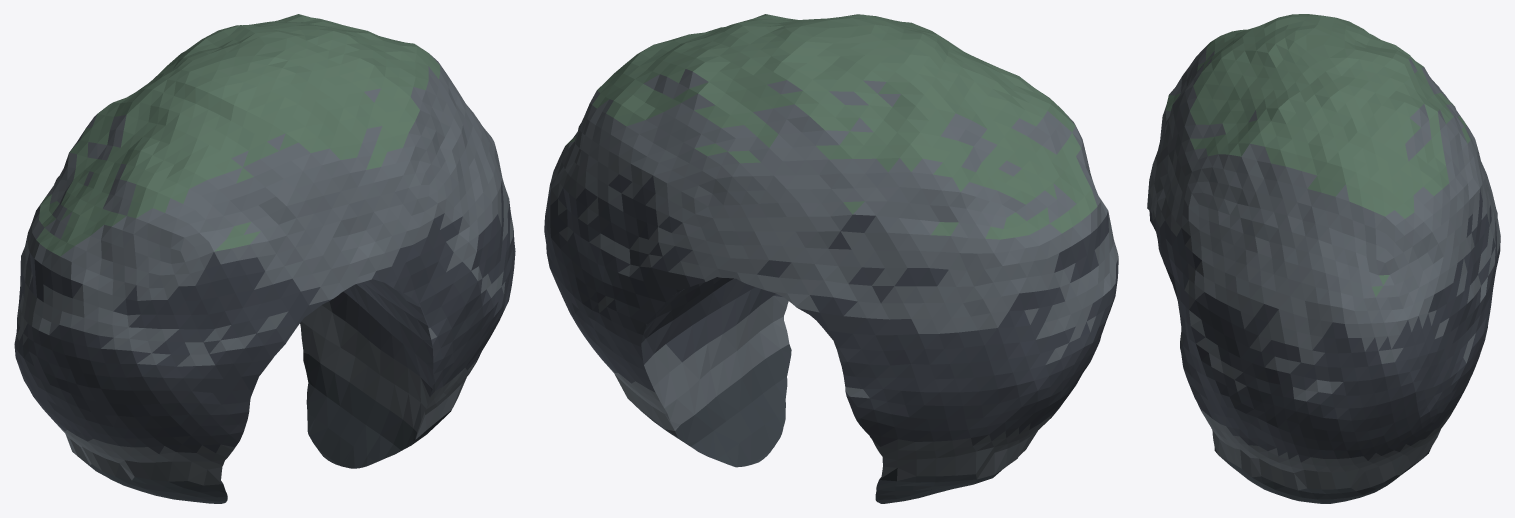
Rendered from rock_jagged_arch.glb.
3 renders of one model, left to right at view 1: azimuth 30°, elevation 25°; view 2: azimuth 150°, elevation 25°; view 3: azimuth 270°, elevation 25°, orthographic. The views are drawn at different scales.
Visible parts, largest first — view 1: RockJaggedArch; view 2: RockJaggedArch; view 3: RockJaggedArch.
Boxes of the visible parts, x1,y1,x2,y2 form: RockJaggedArch: (14, 14, 515, 503); RockJaggedArch: (544, 14, 1118, 503); RockJaggedArch: (1147, 14, 1500, 503).
Size of the model in its own units: 37.72 by 31.55 by 24.24.
